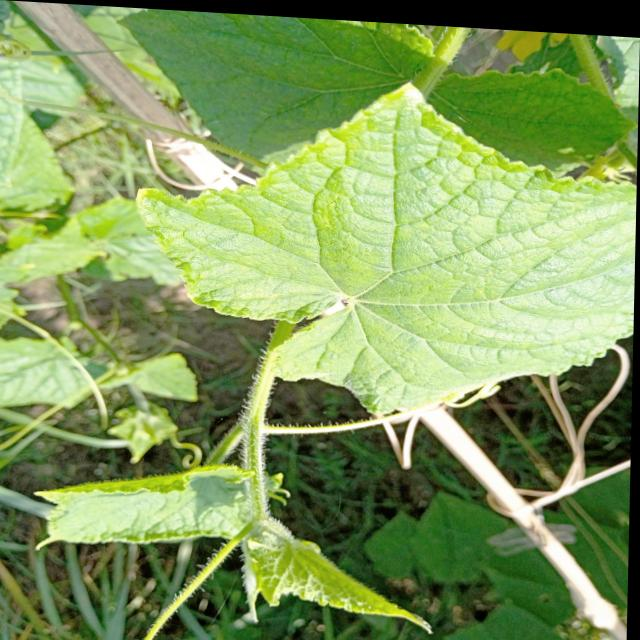Fresh-Leaf: (137, 81, 634, 419), (32, 464, 257, 552)
